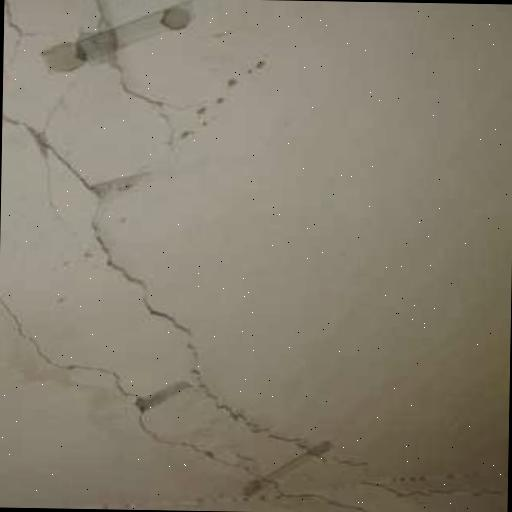spalling: (10, 110, 365, 473), (0, 294, 292, 498)
